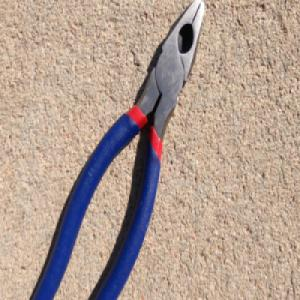Pliers: (30, 0, 206, 300)
